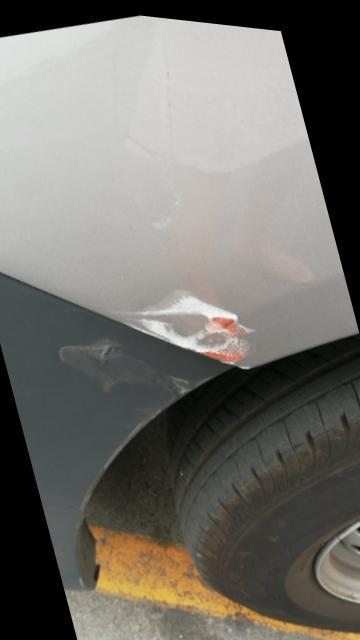scratch: (100, 282, 261, 364), (54, 332, 199, 422)
